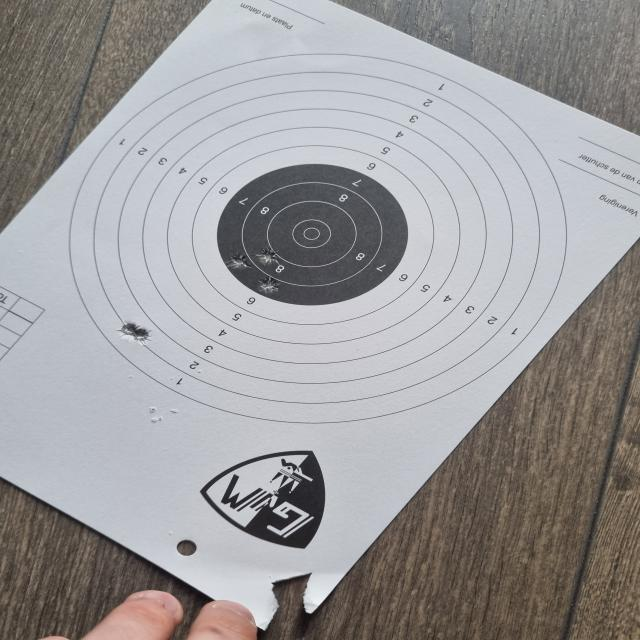10: (255, 248, 280, 265)
3: (116, 322, 138, 336), (133, 328, 151, 344)
8: (226, 253, 251, 270), (258, 277, 280, 294)
Black Contour: (216, 164, 408, 306)
Target: (64, 52, 571, 424)
